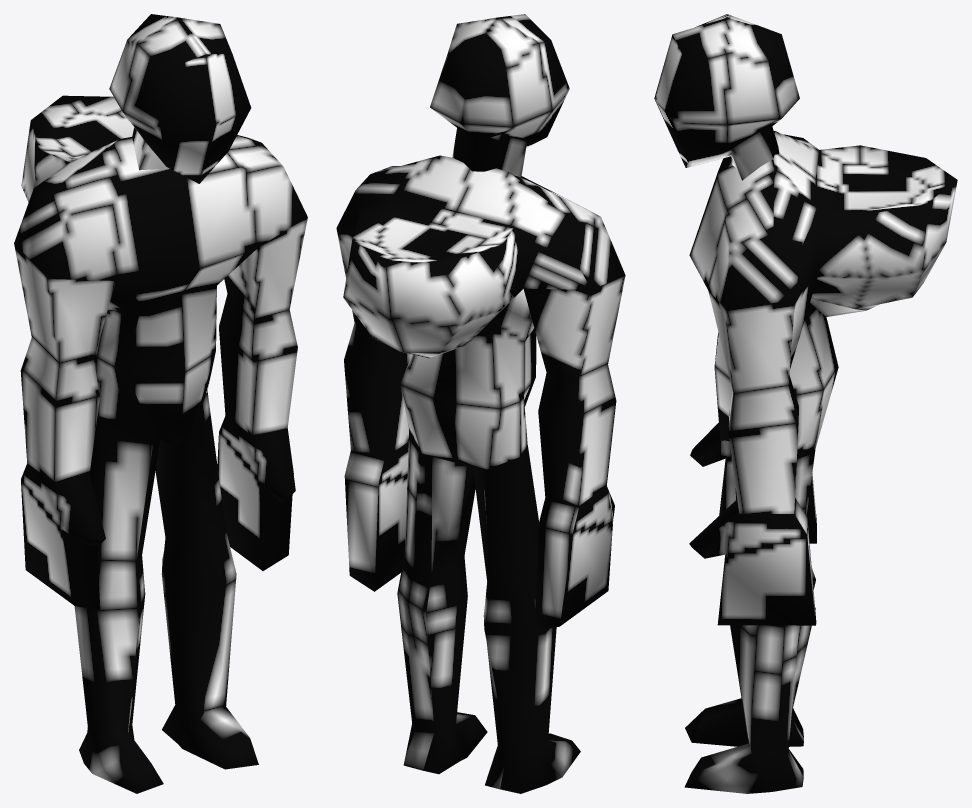
Rendered from BoogeyMan.obj.
3 renders of one model, left to right at view 1: azimuth 30°, elevation 25°; view 2: azimuth 150°, elevation 25°; view 3: azimuth 270°, elevation 25°, orthographic.
Parts seen in each view (by area): view 1: Cube1; view 2: Cube1; view 3: Cube1.
Part boxes in pixels (box(x1,y1,x2,y2)): Cube1: box(14, 14, 307, 793); Cube1: box(336, 14, 625, 793); Cube1: box(654, 14, 957, 793).
Bounding box in the file's own units: 3.86 × 10.6 × 3.93.
1 material, 1 textured.
